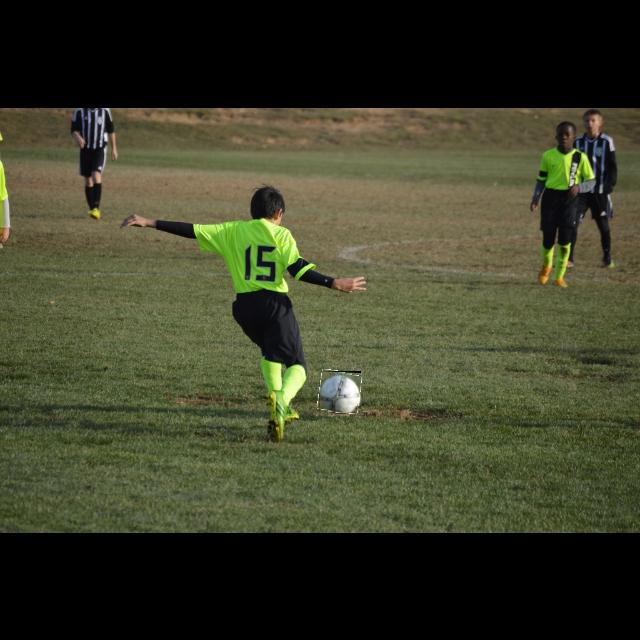Football: (319, 371, 361, 413)
